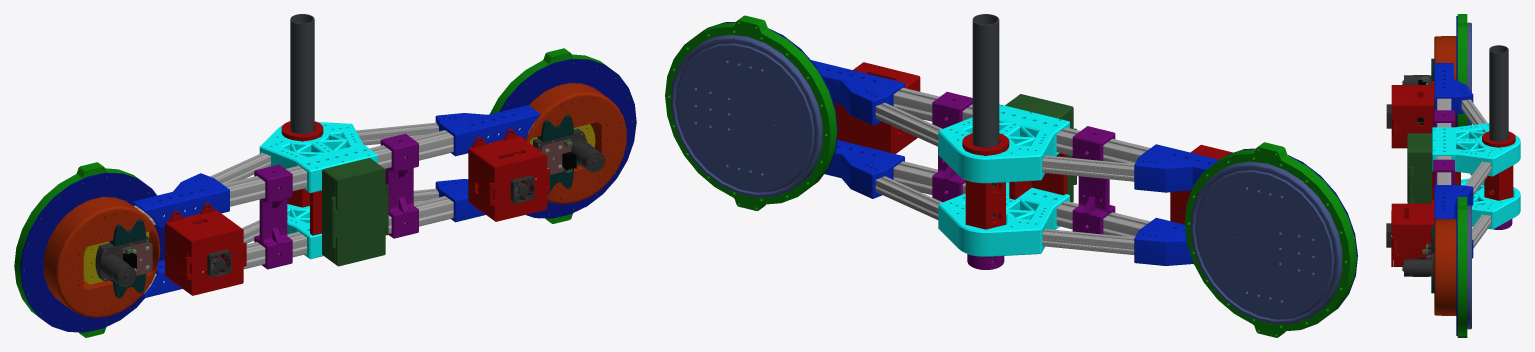
The model's file is rocker_right_visual.obj.
The picture shows the model from 3 angles, left to right: view 1: azimuth 30°, elevation 25°; view 2: azimuth 150°, elevation 25°; view 3: azimuth 270°, elevation 25°; orthographic projection. The views are drawn at different scales.
Visible parts, largest first — view 1: rocker_R_visual.001; view 2: rocker_R_visual.001; view 3: rocker_R_visual.001.
Boxes of the visible parts, x1,y1,x2,y2 form: rocker_R_visual.001: (14,14,636,337); rocker_R_visual.001: (665,14,1357,337); rocker_R_visual.001: (1386,14,1520,337).
Bounding box in the file's own units: 1.18 × 0.4418 × 0.2776.
